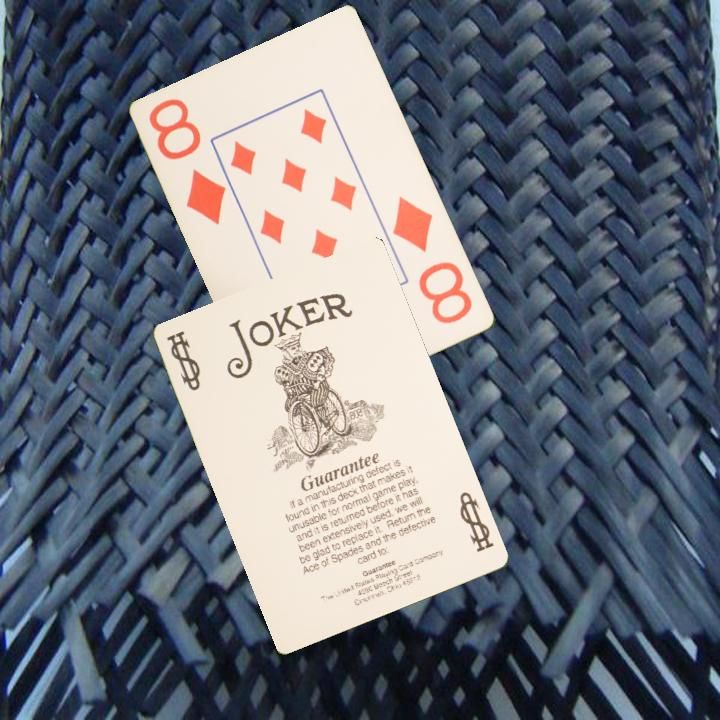8d: (389, 193, 476, 327), (145, 95, 230, 229)
JK: (456, 488, 497, 556), (163, 328, 204, 394)
